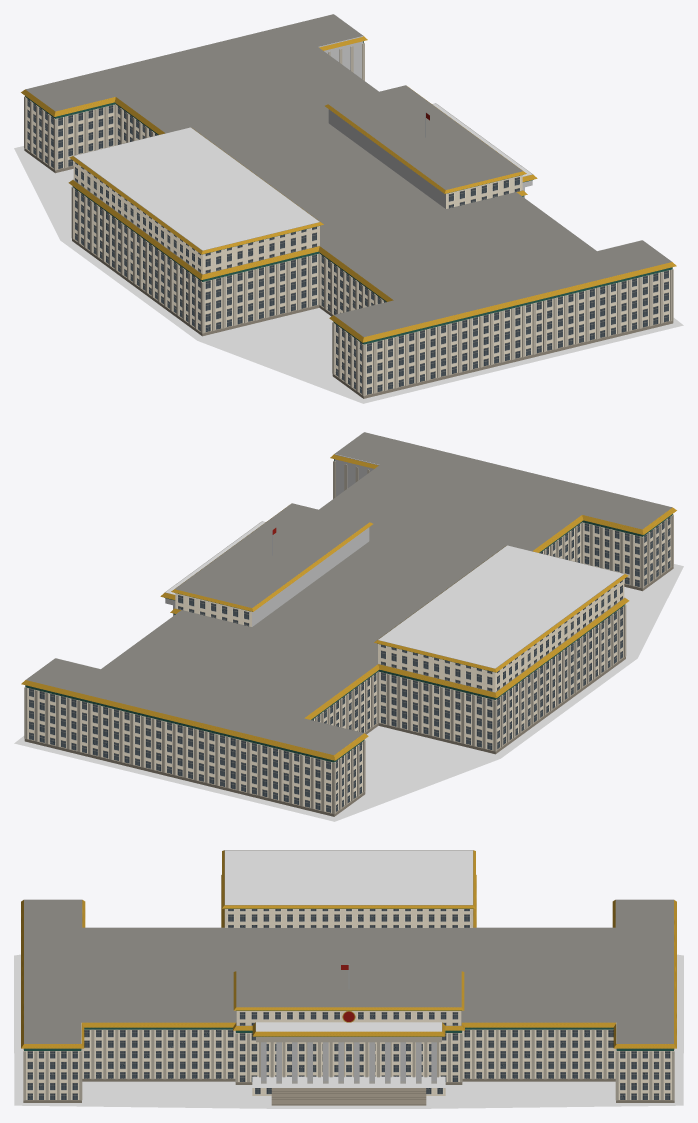
Rendered from greathall.glb.
3 views of the same model, one above another, from view 1: azimuth 30°, elevation 25°; view 2: azimuth 150°, elevation 25°; view 3: azimuth 270°, elevation 25° (orthographic). The views are drawn at different scales.
Visible parts, largest first — view 1: Body, Massing, COL_block3, FOOTPRINT, CLEAR_site, COL_block5, COL_block1; view 2: Body, Massing, COL_block3, FOOTPRINT, CLEAR_site, COL_block5, COL_block2; view 3: Body, Massing, COL_block3, FOOTPRINT, CLEAR_site, Stairs, Portico, COL_block6, COL_block7.
Boxes of the visible parts, <box> form: Body: <box>21,14,676,398</box>; Massing: <box>73,105,670,394</box>; COL_block3: <box>74,127,319,250</box>; FOOTPRINT: <box>19,148,678,401</box>; CLEAR_site: <box>14,146,683,403</box>; COL_block5: <box>328,109,445,208</box>; COL_block1: <box>318,36,363,78</box>; Body: <box>21,432,676,816</box>; Massing: <box>27,523,624,812</box>; COL_block3: <box>378,545,623,668</box>; FOOTPRINT: <box>19,566,678,819</box>; CLEAR_site: <box>14,564,683,821</box>; COL_block5: <box>252,527,369,626</box>; COL_block2: <box>334,454,379,496</box>; Body: <box>21,850,676,1102</box>; Massing: <box>26,1029,671,1099</box>; COL_block3: <box>225,850,472,904</box>; FOOTPRINT: <box>19,956,678,1106</box>; CLEAR_site: <box>14,954,683,1108</box>; Stairs: <box>271,1088,426,1105</box>; Portico: <box>252,1022,445,1042</box>; COL_block6: <box>252,1076,445,1087</box>; COL_block7: <box>256,1022,441,1031</box>.
Size of the model in its own units: 222 by 58 by 346.
Materials: 10 (2 with a texture image).
